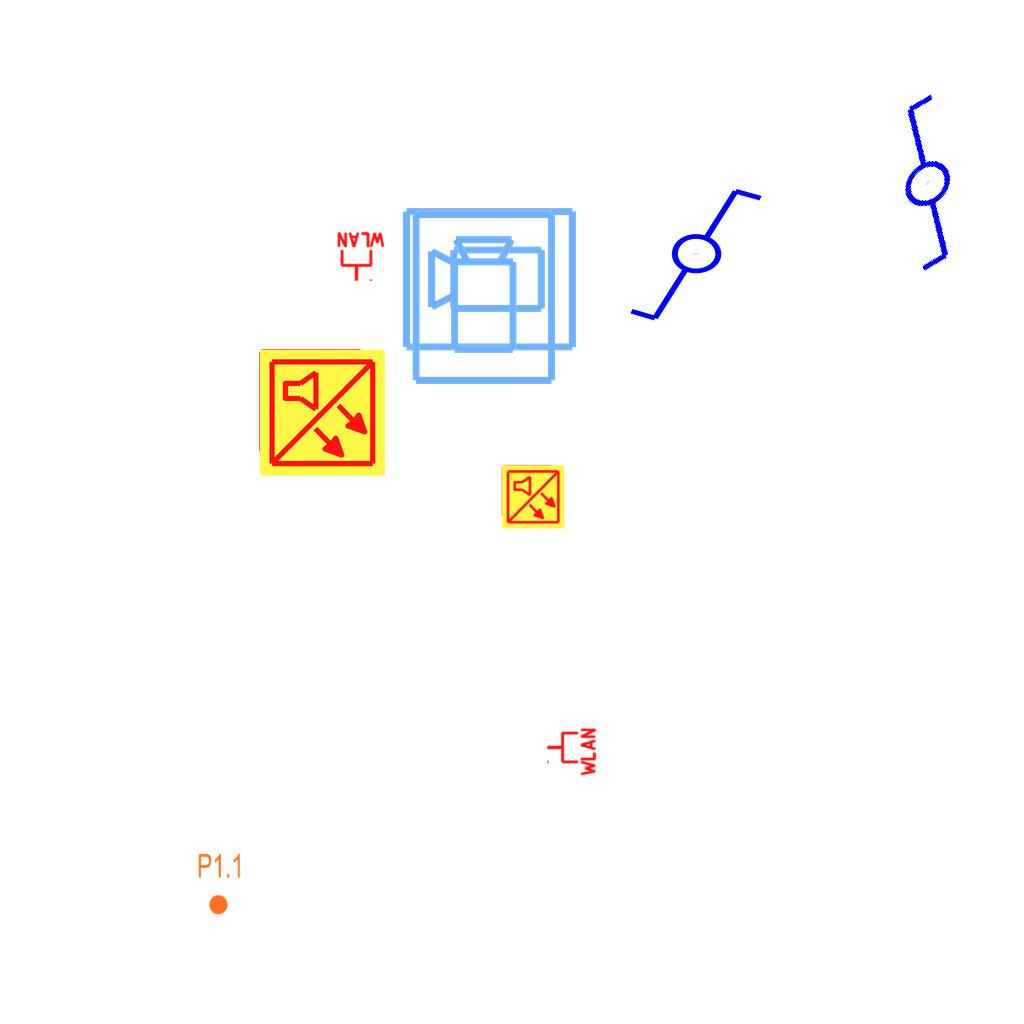Downlight_LED_Einbauleuchten_Flur: (197, 852, 243, 916)
KFO_Kamera_mit_Festobjektiv: (399, 201, 581, 355), (408, 207, 562, 389)
OKW_Multisensormelder_(Kombination_optischer_Rauch-Kahlenmonoxid_Waerme-Melder): (256, 347, 388, 479), (500, 464, 566, 530)
WLAN: (335, 231, 387, 283), (545, 726, 597, 778)
Wechselschalter: (814, 81, 1024, 295), (626, 184, 783, 328)
